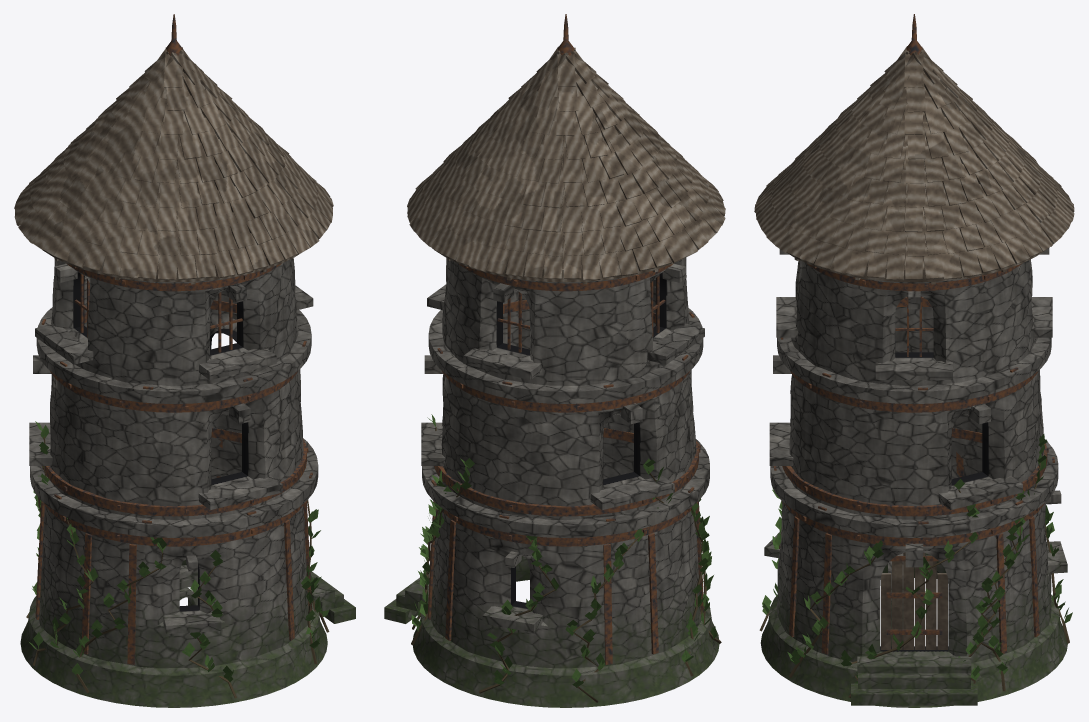
File: watchtower.glb
3 renders of one model, left to right at view 1: azimuth 30°, elevation 25°; view 2: azimuth 150°, elevation 25°; view 3: azimuth 270°, elevation 25°, orthographic.
Parts seen in each view (by area): view 1: Watchtower_Stone, Watchtower_Wood, Watchtower_Iron, Watchtower_Ivy; view 2: Watchtower_Stone, Watchtower_Wood, Watchtower_Iron, Watchtower_Ivy; view 3: Watchtower_Stone, Watchtower_Wood, Watchtower_Iron, Watchtower_Ivy.
Part boxes in pixels (x1,y1,x2,y2): Watchtower_Stone: (20,258,355,707); Watchtower_Wood: (14,47,333,284); Watchtower_Iron: (35,14,312,664); Watchtower_Ivy: (26,421,329,698); Watchtower_Stone: (384,257,719,707); Watchtower_Wood: (407,46,725,284); Watchtower_Iron: (427,14,703,664); Watchtower_Ivy: (411,414,721,702); Watchtower_Stone: (760,248,1067,707); Watchtower_Wood: (754,46,1074,649); Watchtower_Iron: (773,14,1054,654); Watchtower_Ivy: (759,430,1072,697).
Bounding box in the file's own units: 7.36 × 15.35 × 7.08.
Materials: 4 (4 with a texture image).
